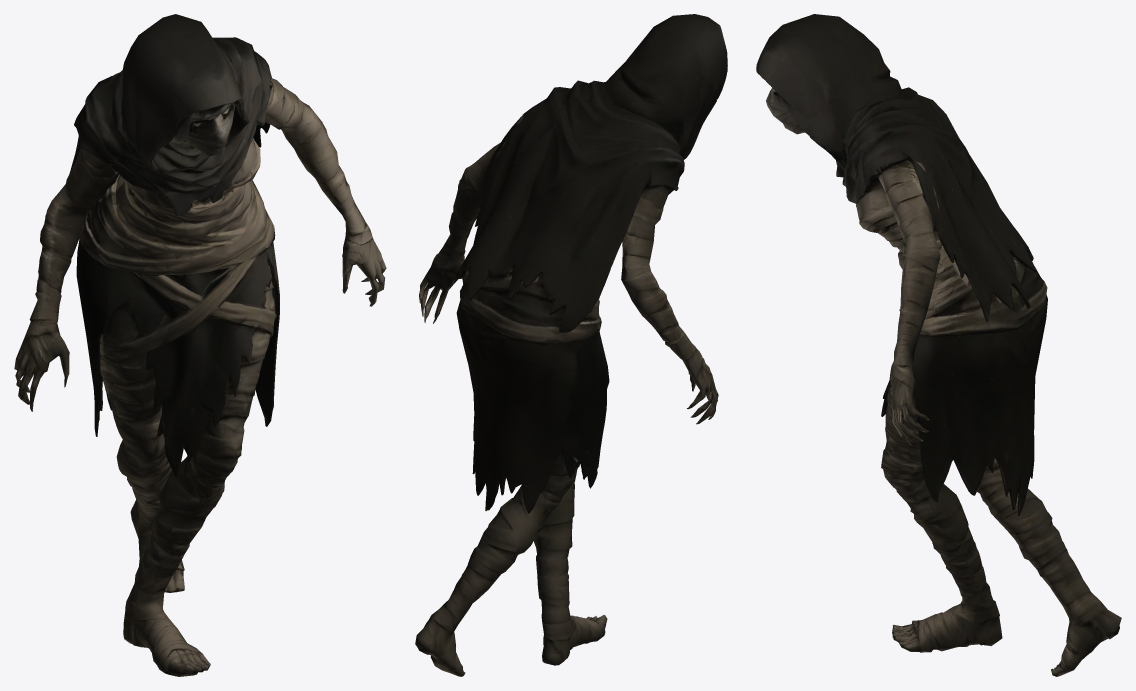
Rendered from crew-mummyA.glb.
The picture shows the model from 3 angles, left to right: view 1: azimuth 30°, elevation 25°; view 2: azimuth 150°, elevation 25°; view 3: azimuth 270°, elevation 25°; orthographic projection. The views are drawn at different scales.
Size of the model in its own units: 0.9994 by 1.9 by 1.04.
1 material, 1 textured.
